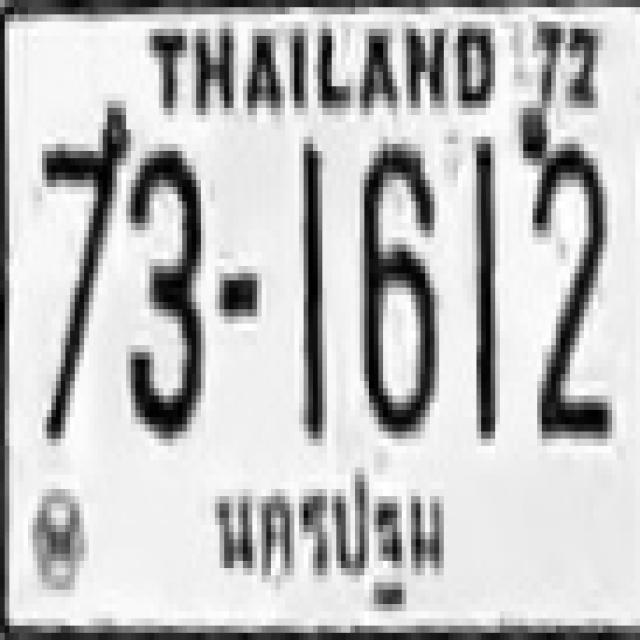1: (470, 136, 498, 438), (294, 140, 322, 435)
2: (528, 136, 607, 438)
3: (121, 144, 201, 431)
6: (355, 136, 434, 432)
7: (37, 104, 126, 435)
NPT: (191, 480, 482, 610)
